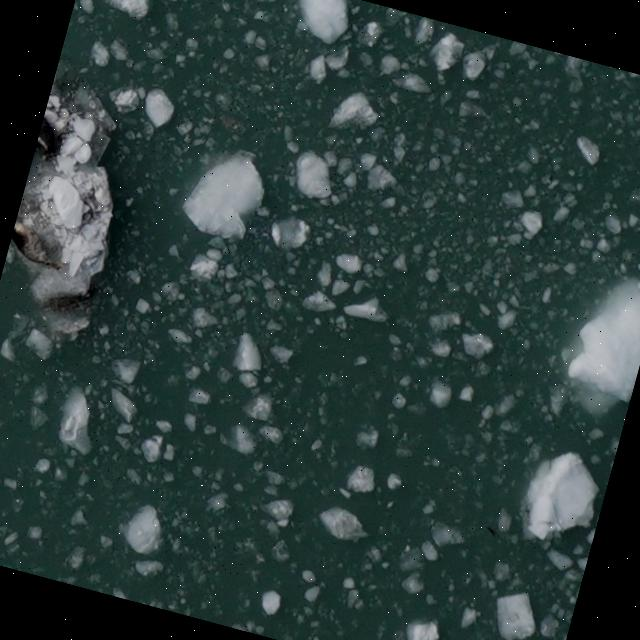seal: (5, 219, 78, 277), (31, 101, 71, 170)
